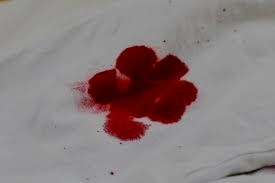blood: (84, 45, 198, 140)
